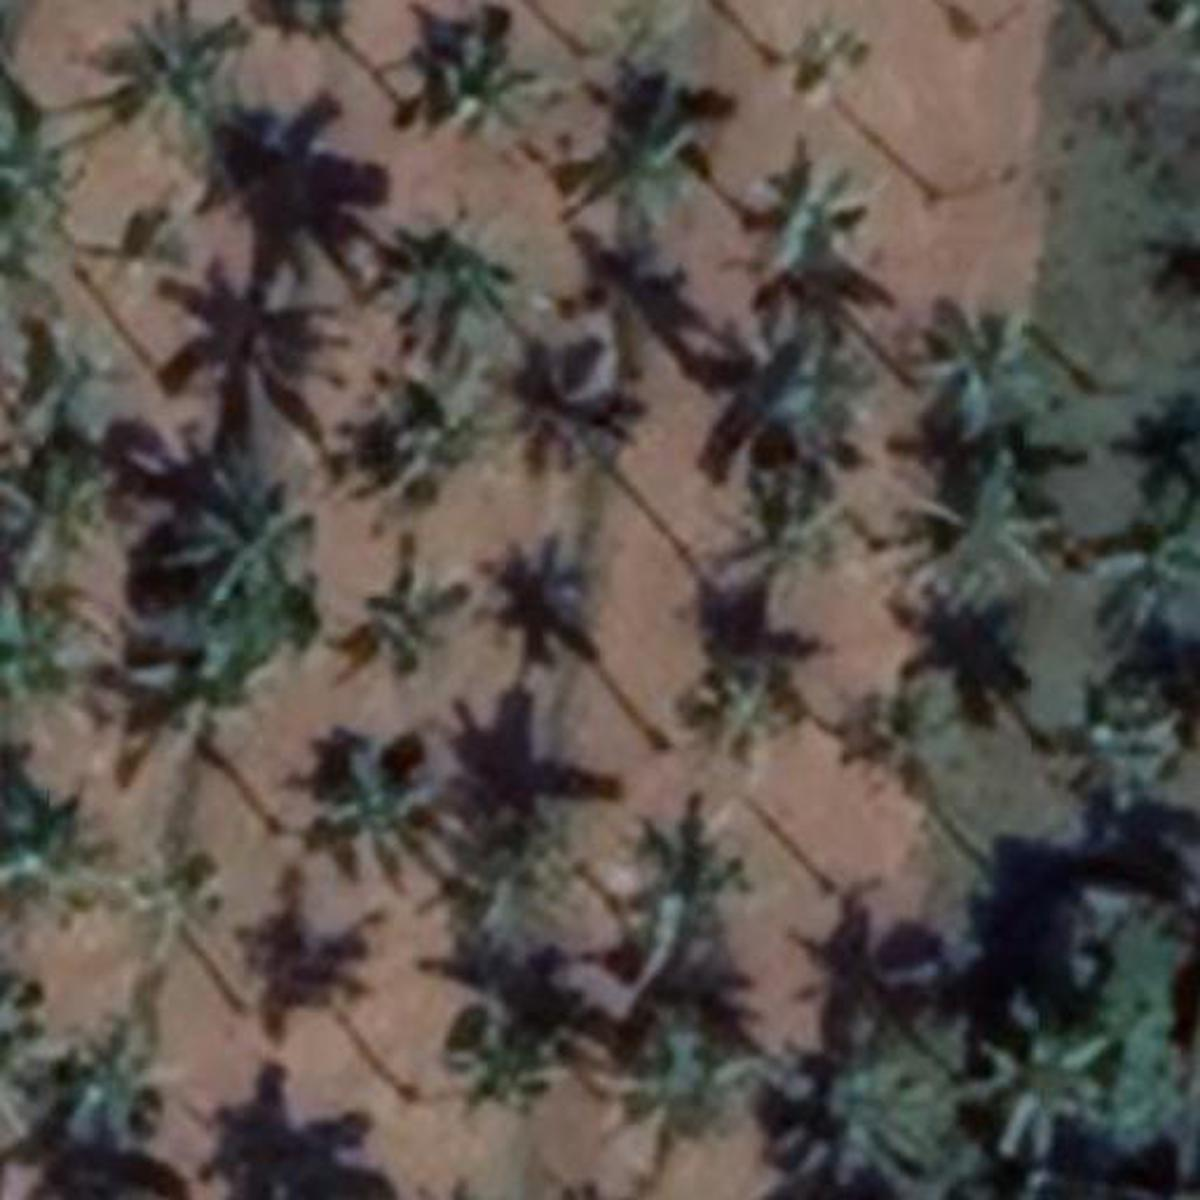coconut: (900, 464, 1078, 625), (384, 210, 534, 384), (344, 379, 505, 520), (914, 292, 1068, 438), (965, 1027, 1125, 1167), (618, 796, 762, 951), (178, 462, 327, 609), (100, 4, 262, 140), (808, 673, 977, 801), (307, 738, 464, 874), (623, 1012, 768, 1153), (724, 338, 874, 471), (1047, 684, 1188, 822), (574, 105, 716, 241), (810, 1054, 944, 1190), (745, 175, 888, 300), (30, 1026, 173, 1148), (100, 825, 236, 953), (682, 656, 815, 780), (431, 1005, 569, 1122), (412, 32, 543, 152), (1101, 515, 1197, 656), (735, 487, 855, 588), (337, 571, 462, 660)
